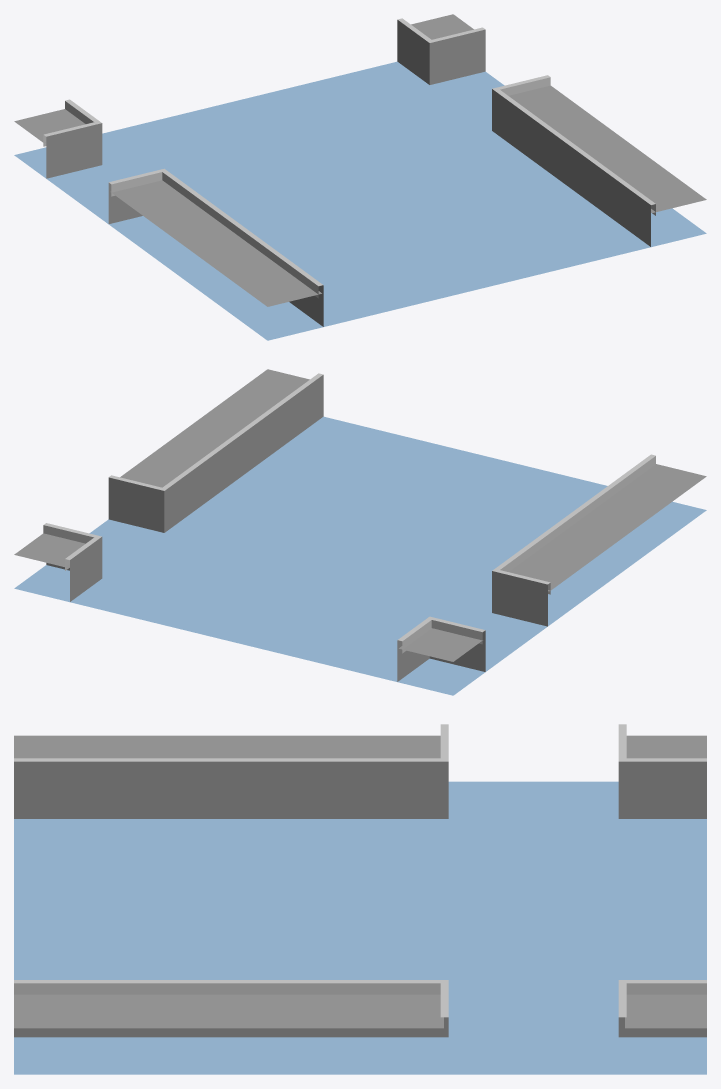
Rendered from road_tile_river_2x2_003.glb.
The picture shows the model from 3 angles, top to bottom: view 1: azimuth 30°, elevation 25°; view 2: azimuth 150°, elevation 25°; view 3: azimuth 270°, elevation 25°; orthographic projection. The views are drawn at different scales.
Visible parts, largest first — view 1: road_tile_river_2x2_003; view 2: road_tile_river_2x2_003; view 3: road_tile_river_2x2_003.
Boxes of the visible parts, left/top/right/bottom form: road_tile_river_2x2_003: left=14, top=14, right=706, bottom=340; road_tile_river_2x2_003: left=14, top=369, right=706, bottom=695; road_tile_river_2x2_003: left=14, top=724, right=706, bottom=1074.
Bounding box in the file's own units: 16 × 1.46 × 16.
Materials: 1 (1 with a texture image).
